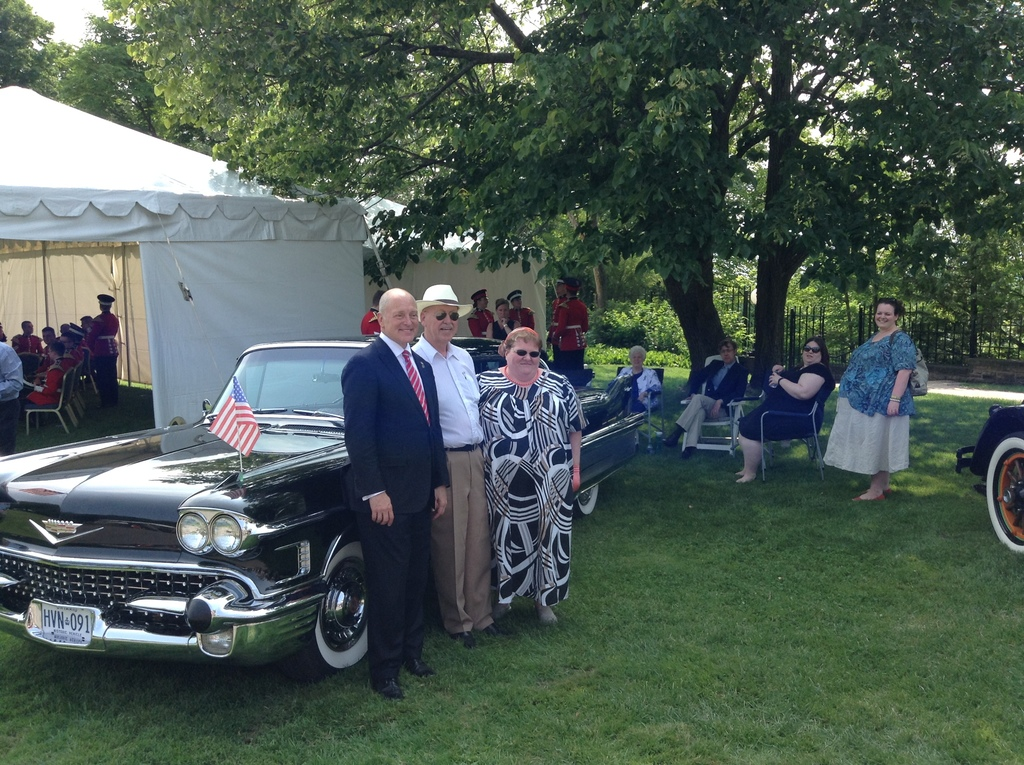cars: (0, 337, 644, 687), (955, 395, 1023, 548)
